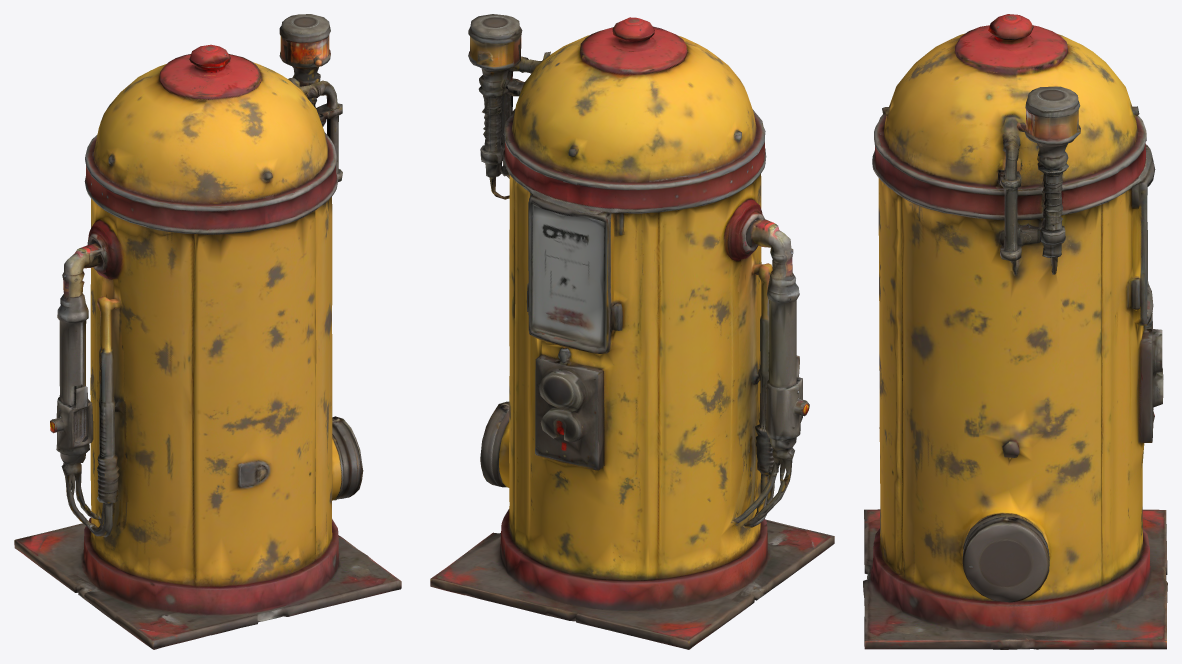
The model's file is quickReload.glb.
3 renders of one model, left to right at view 1: azimuth 30°, elevation 25°; view 2: azimuth 150°, elevation 25°; view 3: azimuth 270°, elevation 25°, orthographic. The views are drawn at different scales.
Bounding box in the file's own units: 1.2 × 2 × 0.9755.
1 material, 1 textured.
